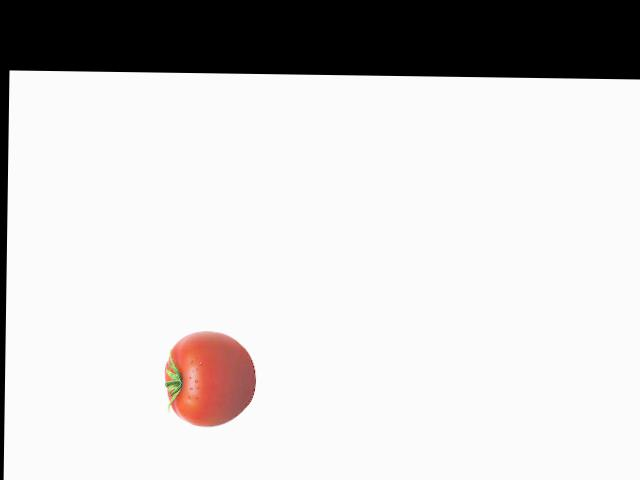tomato: (164, 341, 256, 427)
